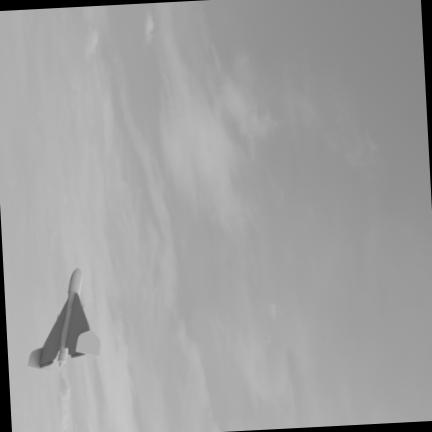Shahed: (28, 269, 99, 369)
